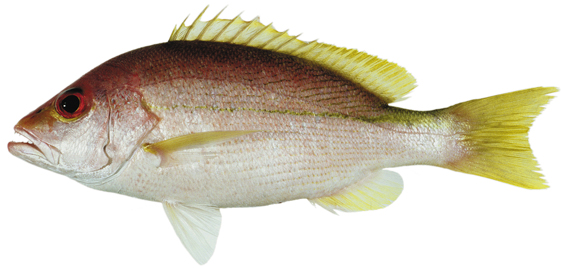fish: (7, 3, 559, 265)
